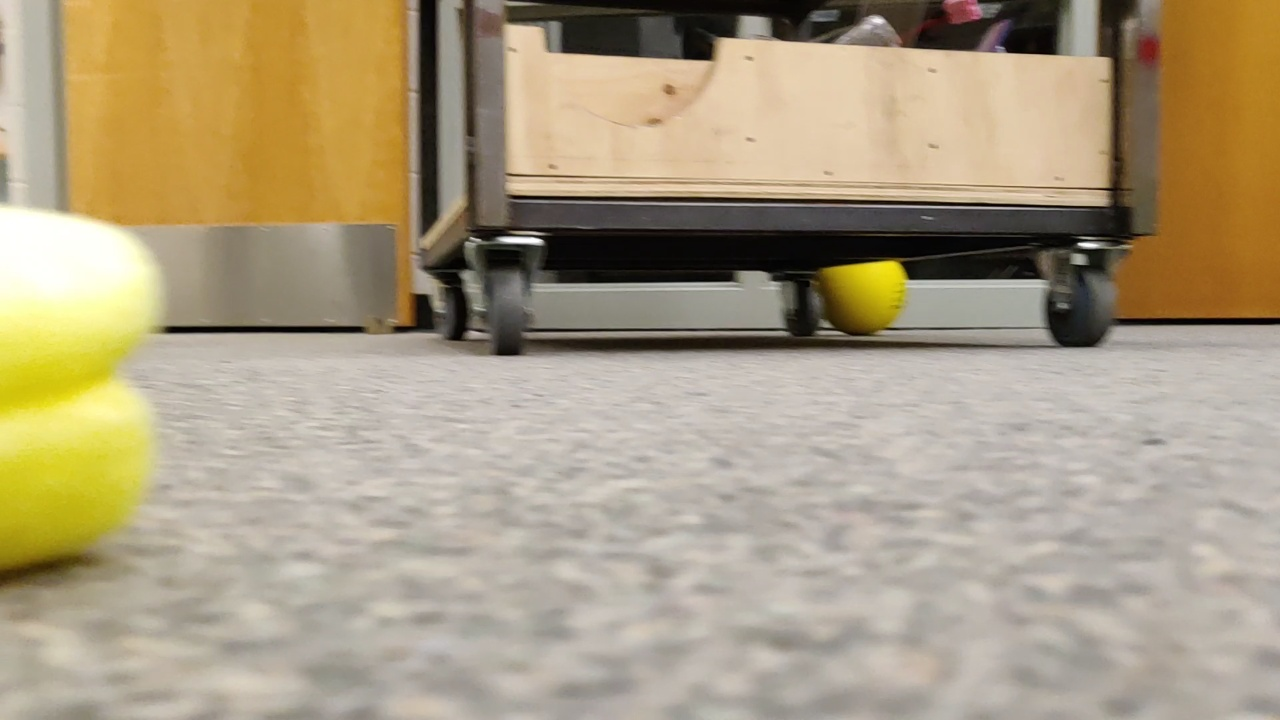Ball: (811, 259, 920, 331)
